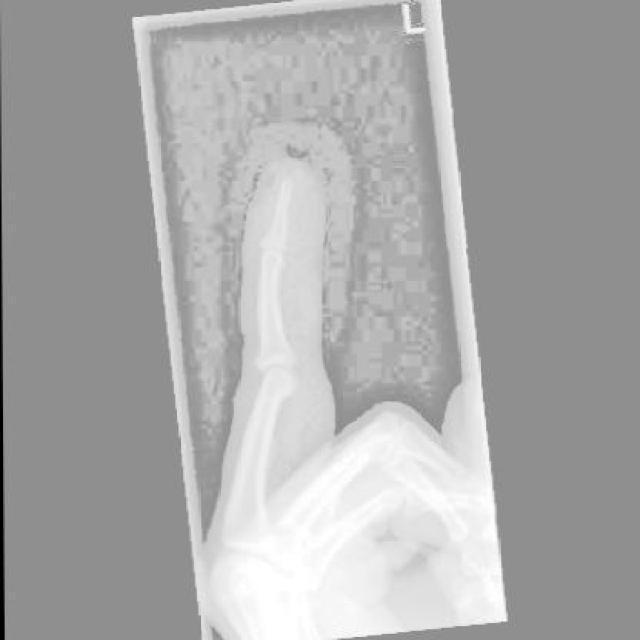Fracture: (271, 193, 294, 219)
